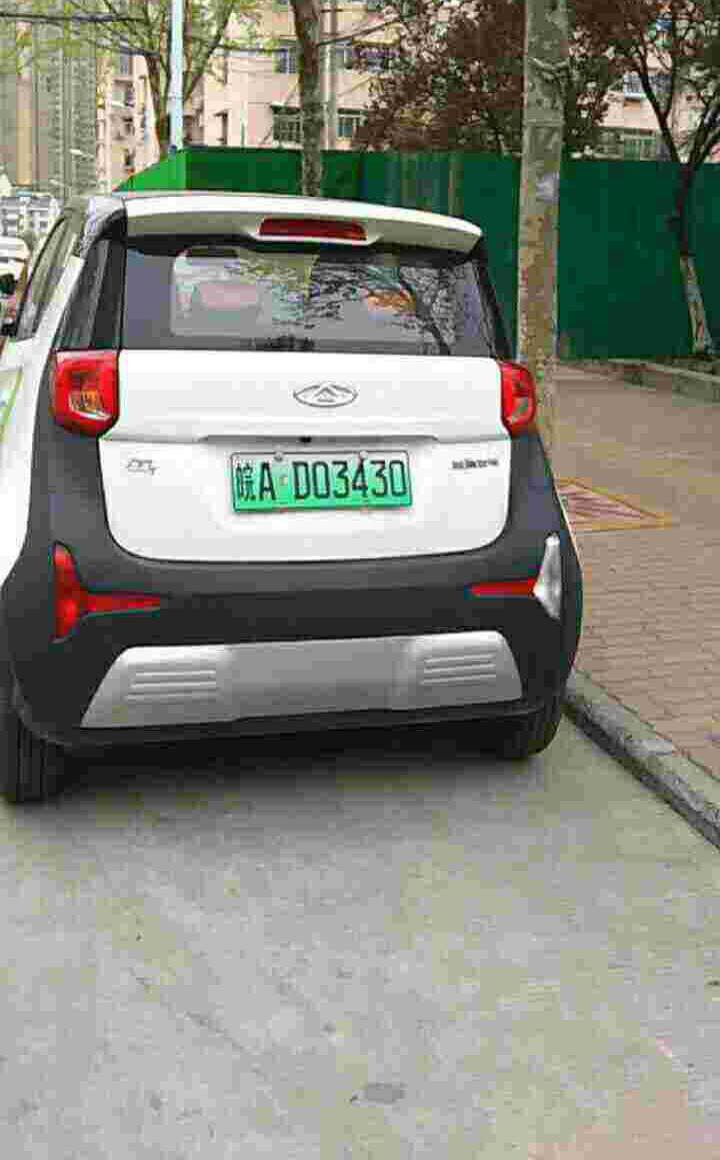car: (230, 452, 406, 511)
